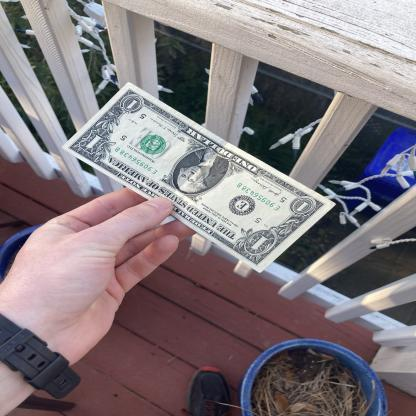one-front: (59, 82, 337, 273)
